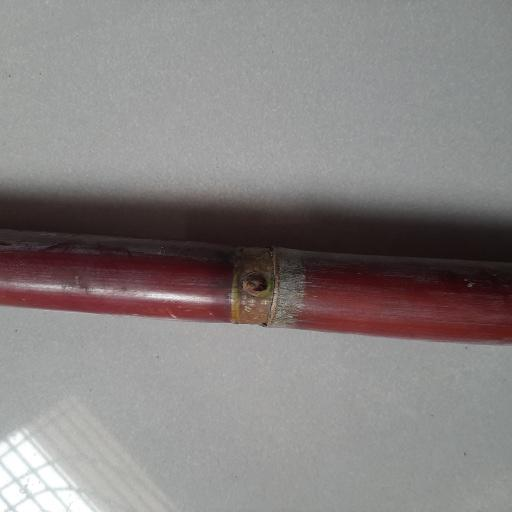Bud: (242, 270, 268, 294)
